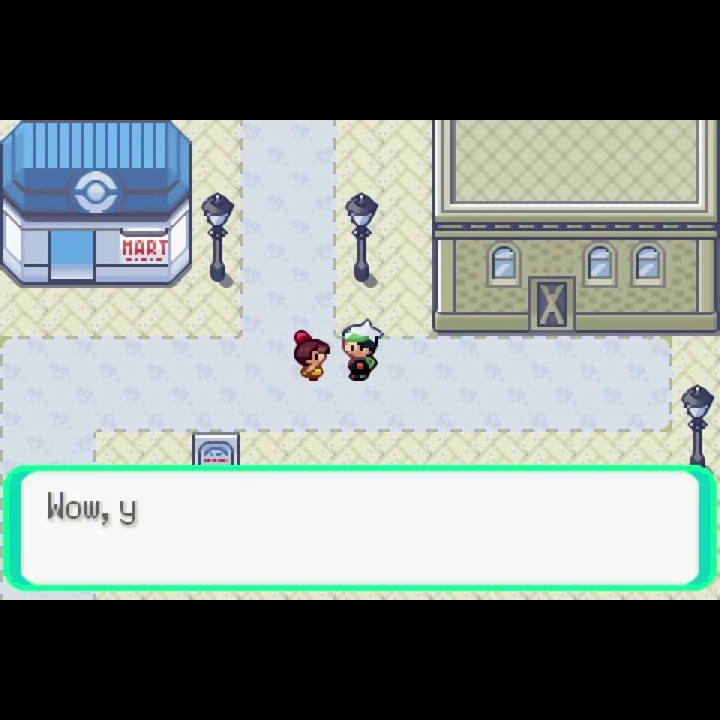agent: (340, 315, 386, 384)
house: (430, 119, 720, 335)
npc: (288, 326, 333, 383)
pokemart: (1, 120, 195, 289)
